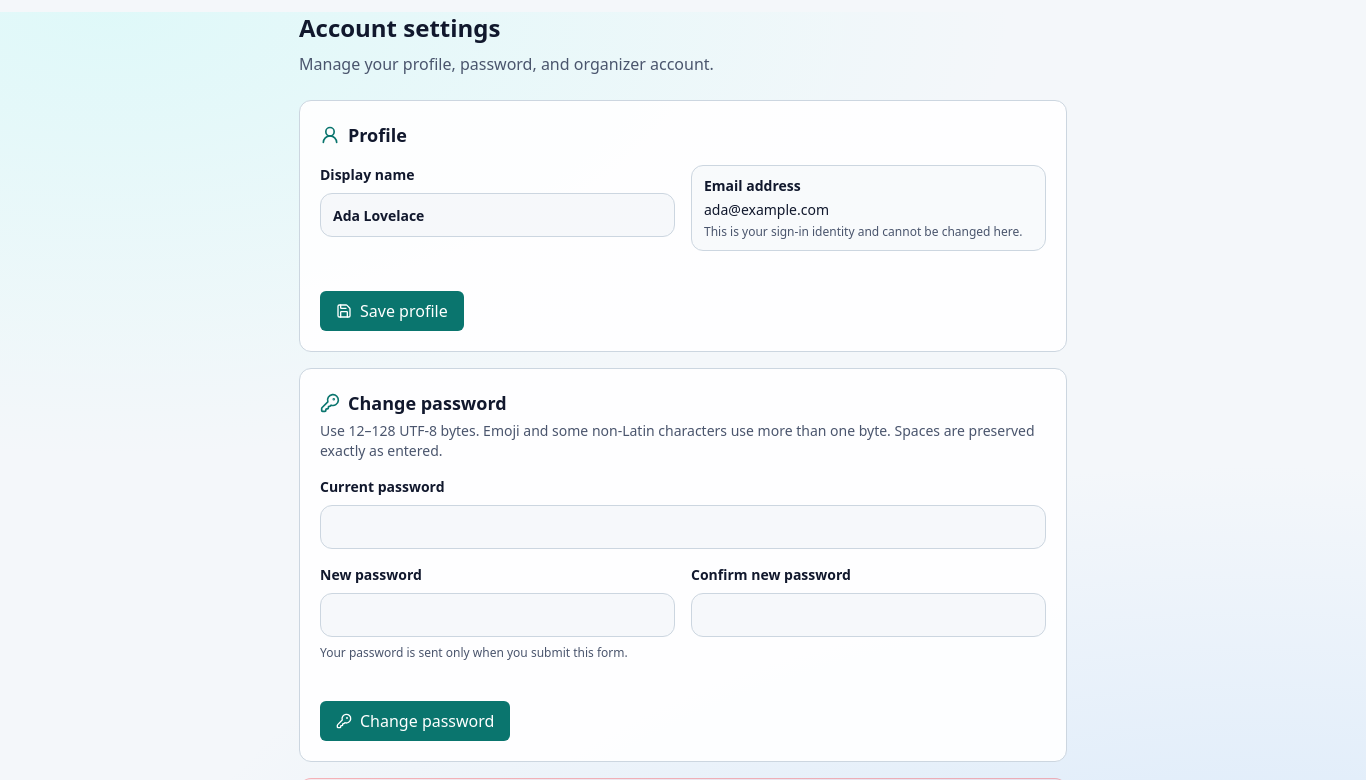
Scenario: AccountSettingsPage › preserves password whitespace exactly
Check: the heading "Account settings" is shown, box [299, 11, 500, 44]
Type " current pass " into the password field labelled "Current password".
click(683, 527); type(" current pass ")  # box [320, 505, 1046, 549]
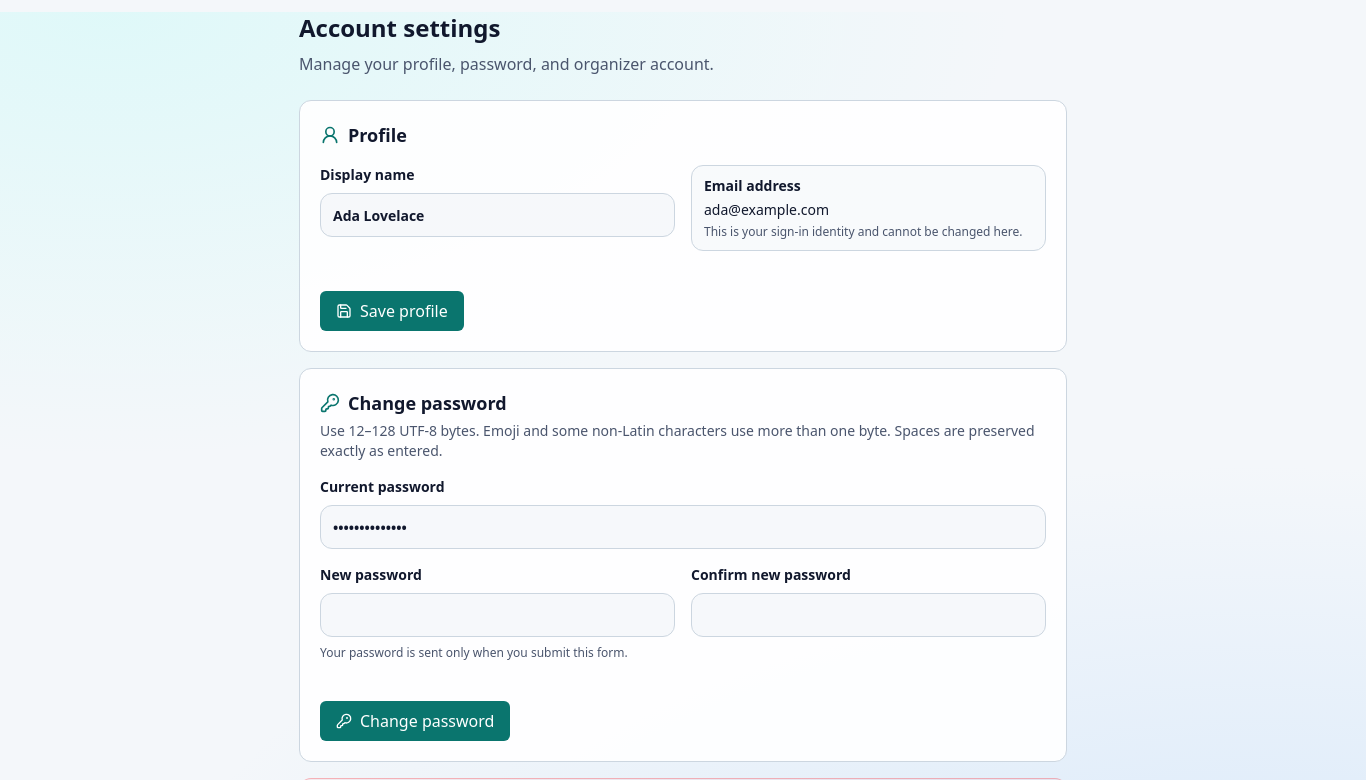
Type "  a new password  " into the password field labelled "New password".
click(498, 615); type("  a new password  ")  # box [320, 593, 675, 637]
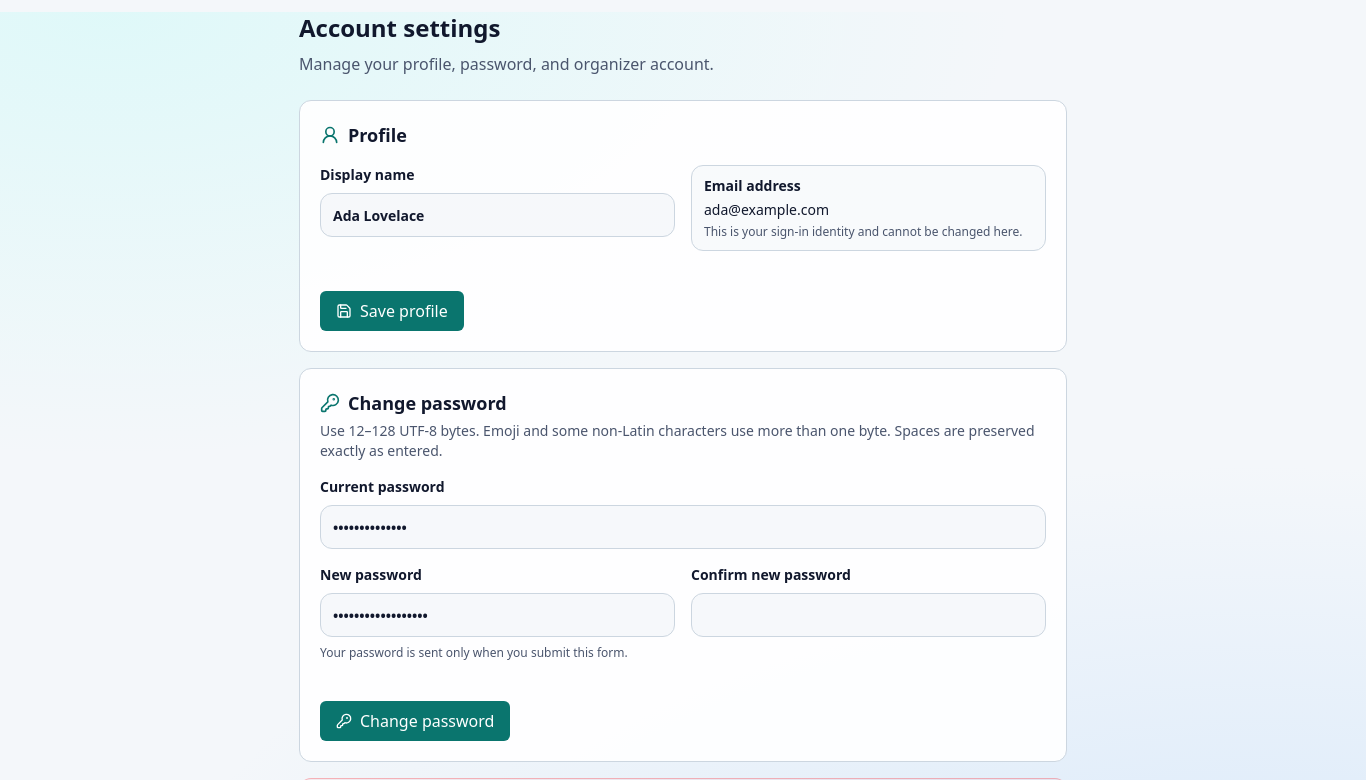
Type "  a new password  " into the password field labelled "Confirm new password".
click(868, 615); type("  a new password  ")  # box [691, 593, 1046, 637]
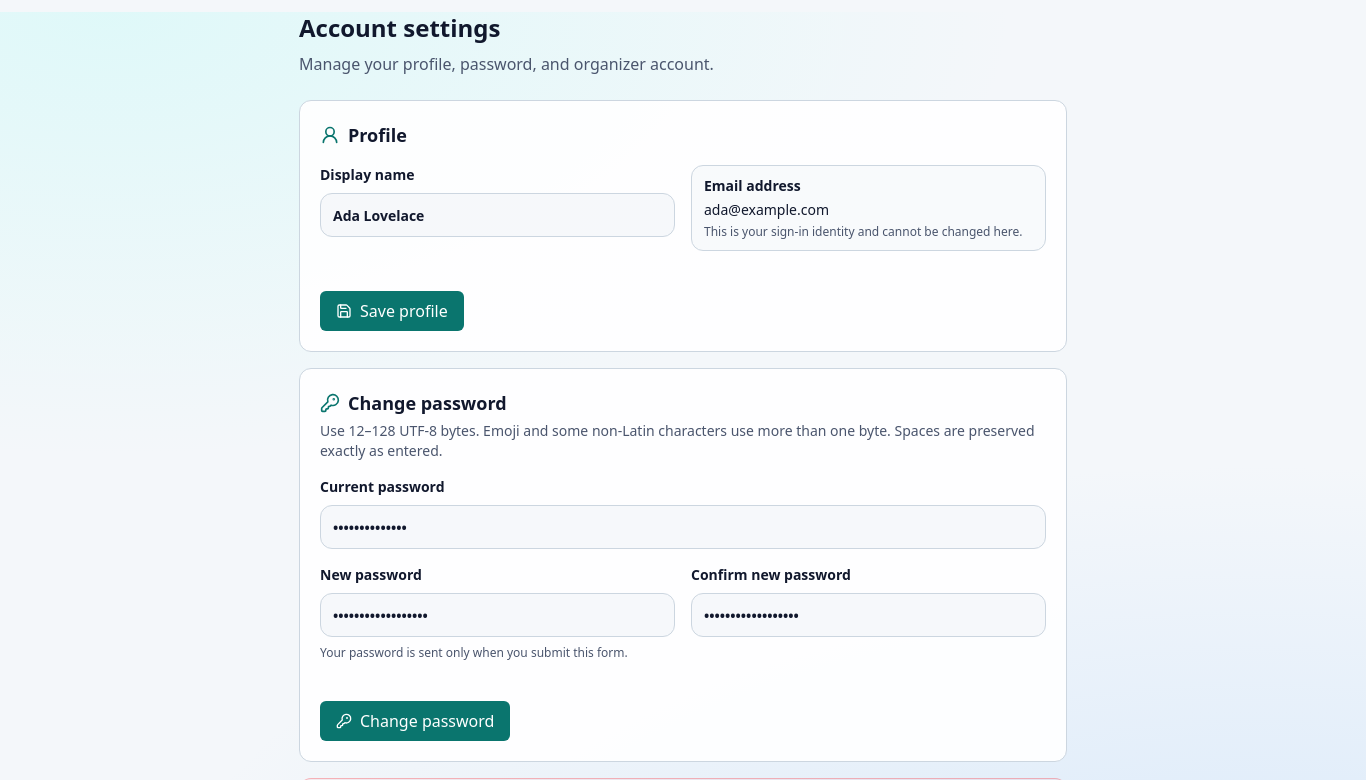
Click the button "Change password".
click(415, 721)  # box [320, 701, 510, 741]
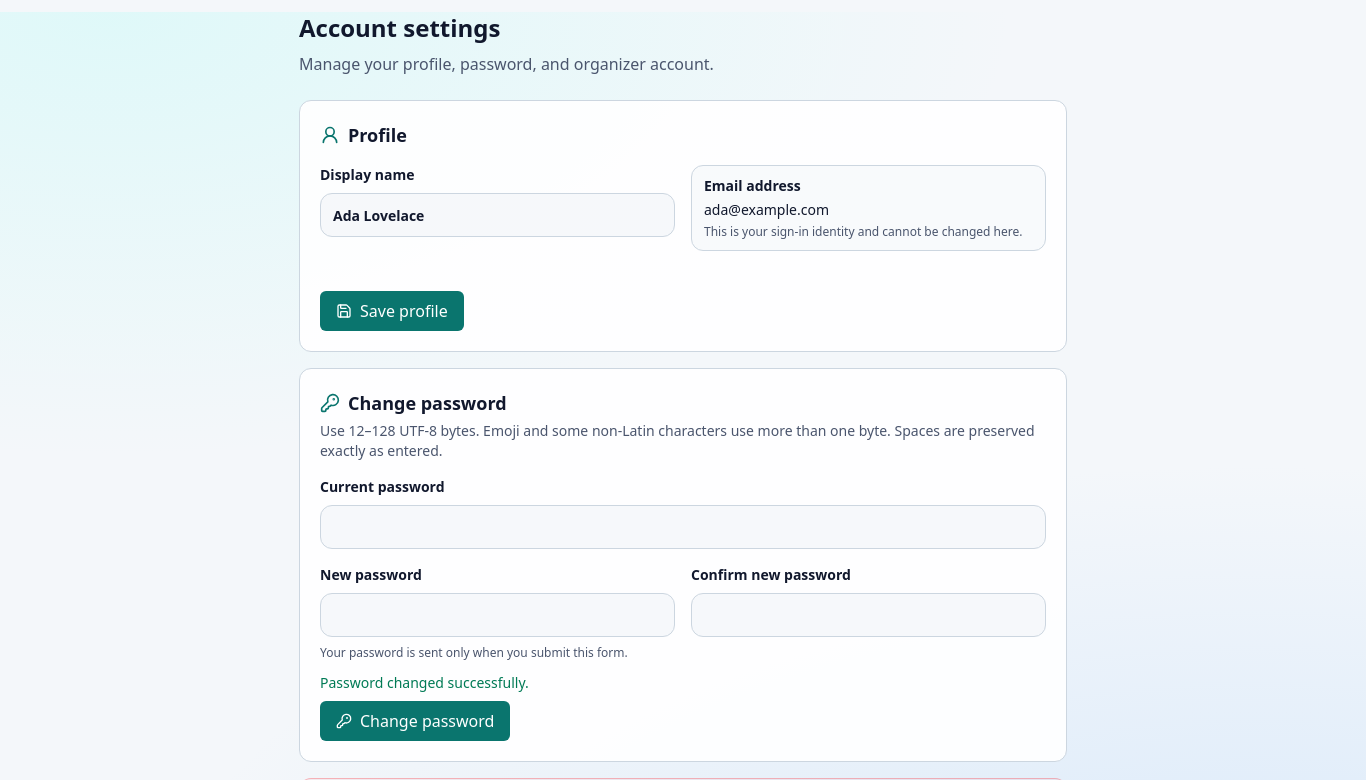
Check: the text "Password changed successfully." is shown, box [320, 673, 529, 692]
